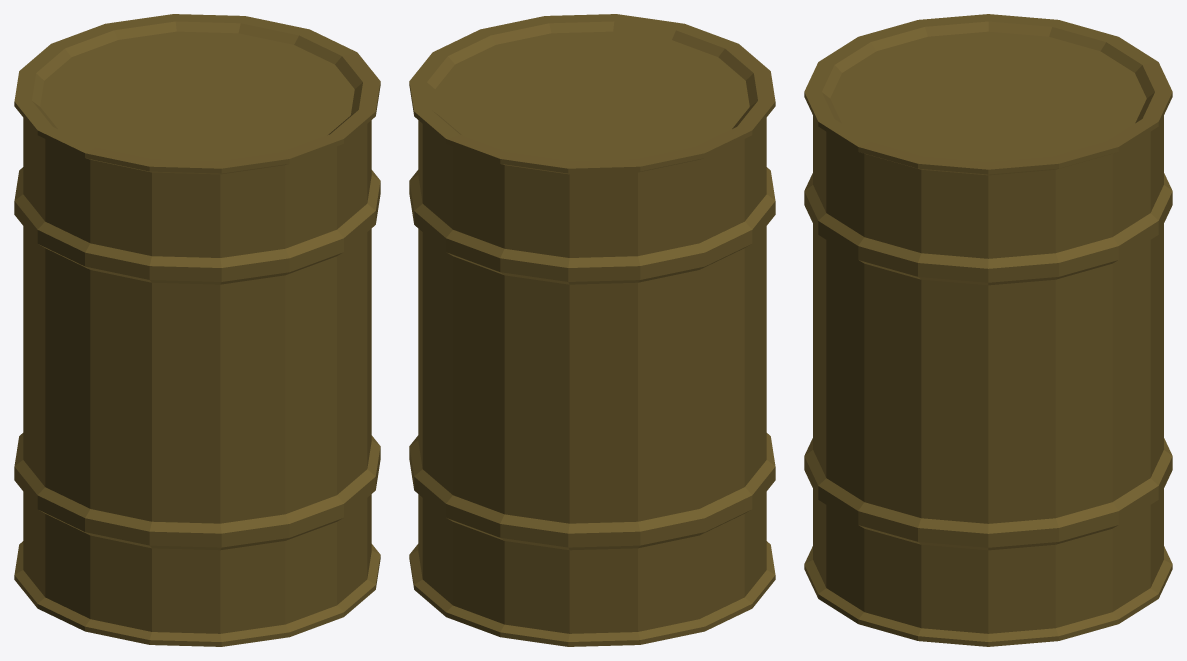
The model's file is oil_barrel.dae.
3 views of the same model, side by side, from view 1: azimuth 30°, elevation 25°; view 2: azimuth 150°, elevation 25°; view 3: azimuth 270°, elevation 25° (orthographic).
Visible parts, largest first — view 1: Cylinder_001; view 2: Cylinder_001; view 3: Cylinder_001.
Boxes of the visible parts, x1,y1,x2,y2 form: Cylinder_001: (14,14,380,646); Cylinder_001: (409,14,775,646); Cylinder_001: (804,14,1172,646).
Size of the model in its own units: 0.504 by 0.504 by 0.7203.
